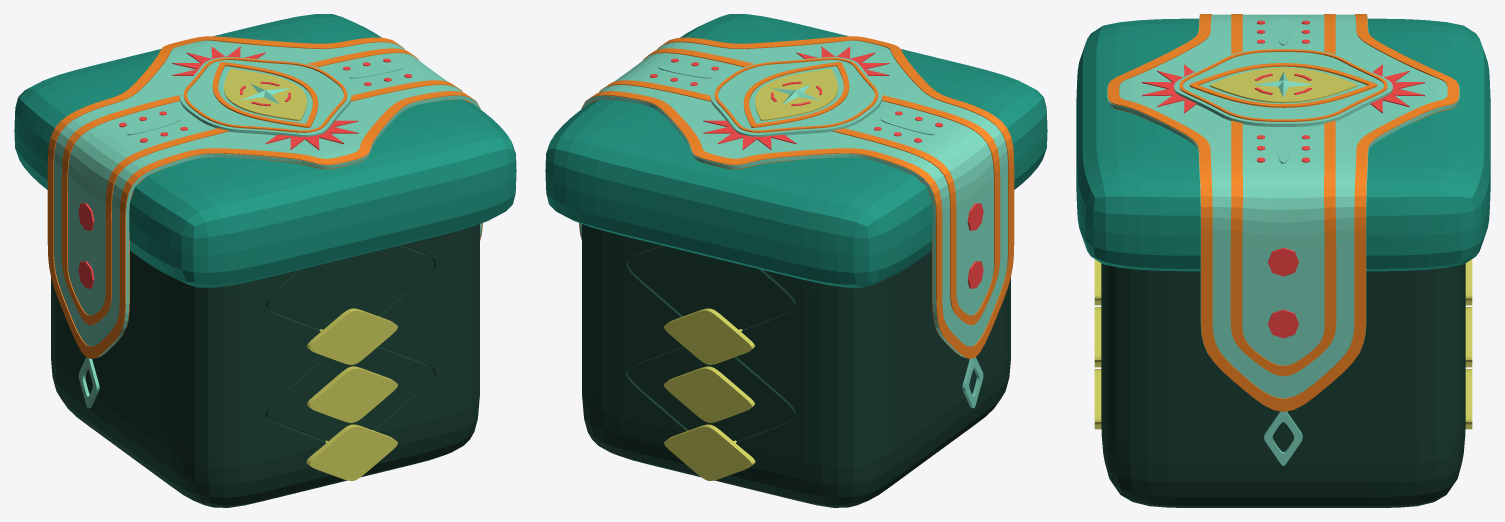
File: blue block.fbx
3 renders of one model, left to right at view 1: azimuth 30°, elevation 25°; view 2: azimuth 150°, elevation 25°; view 3: azimuth 270°, elevation 25°, orthographic. The views are drawn at different scales.
Parts seen in each view (by area): view 1: block3_carpet; view 2: block3_carpet; view 3: block3_carpet.
Part boxes in pixels (x1,y1,x2,y2): block3_carpet: (14, 14, 516, 507); block3_carpet: (545, 14, 1047, 507); block3_carpet: (1076, 14, 1490, 507).
Size of the model in its own units: 243 by 223 by 227.
